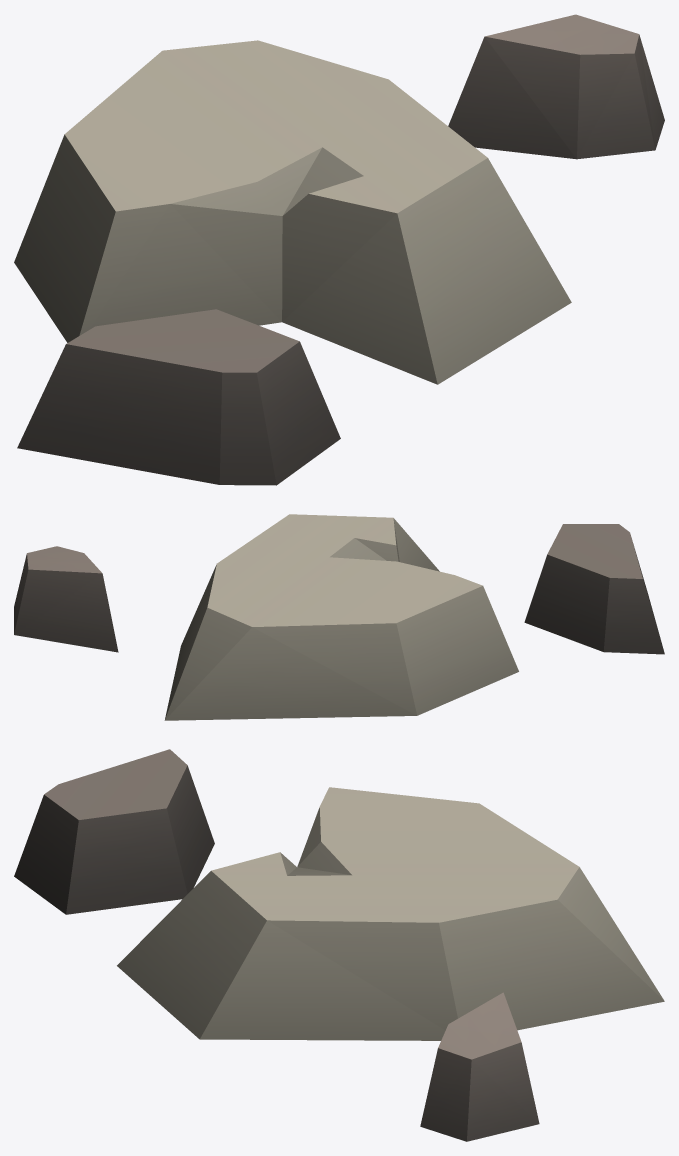
The model's file is Rock_Cluster_3B.fbx.
The picture shows the model from 3 angles, top to bottom: view 1: azimuth 30°, elevation 25°; view 2: azimuth 150°, elevation 25°; view 3: azimuth 270°, elevation 25°; orthographic projection. The views are drawn at different scales.
Parts seen in each view (by area): view 1: Rock_Cluster_3B; view 2: Rock_Cluster_3B; view 3: Rock_Cluster_3B.
Boxes of the visible parts, box(x1,y1,x2,y2) form: Rock_Cluster_3B: box(14, 14, 664, 485); Rock_Cluster_3B: box(14, 514, 664, 720); Rock_Cluster_3B: box(14, 749, 664, 1141).
Bounding box in the file's own units: 197 × 28.55 × 165.
